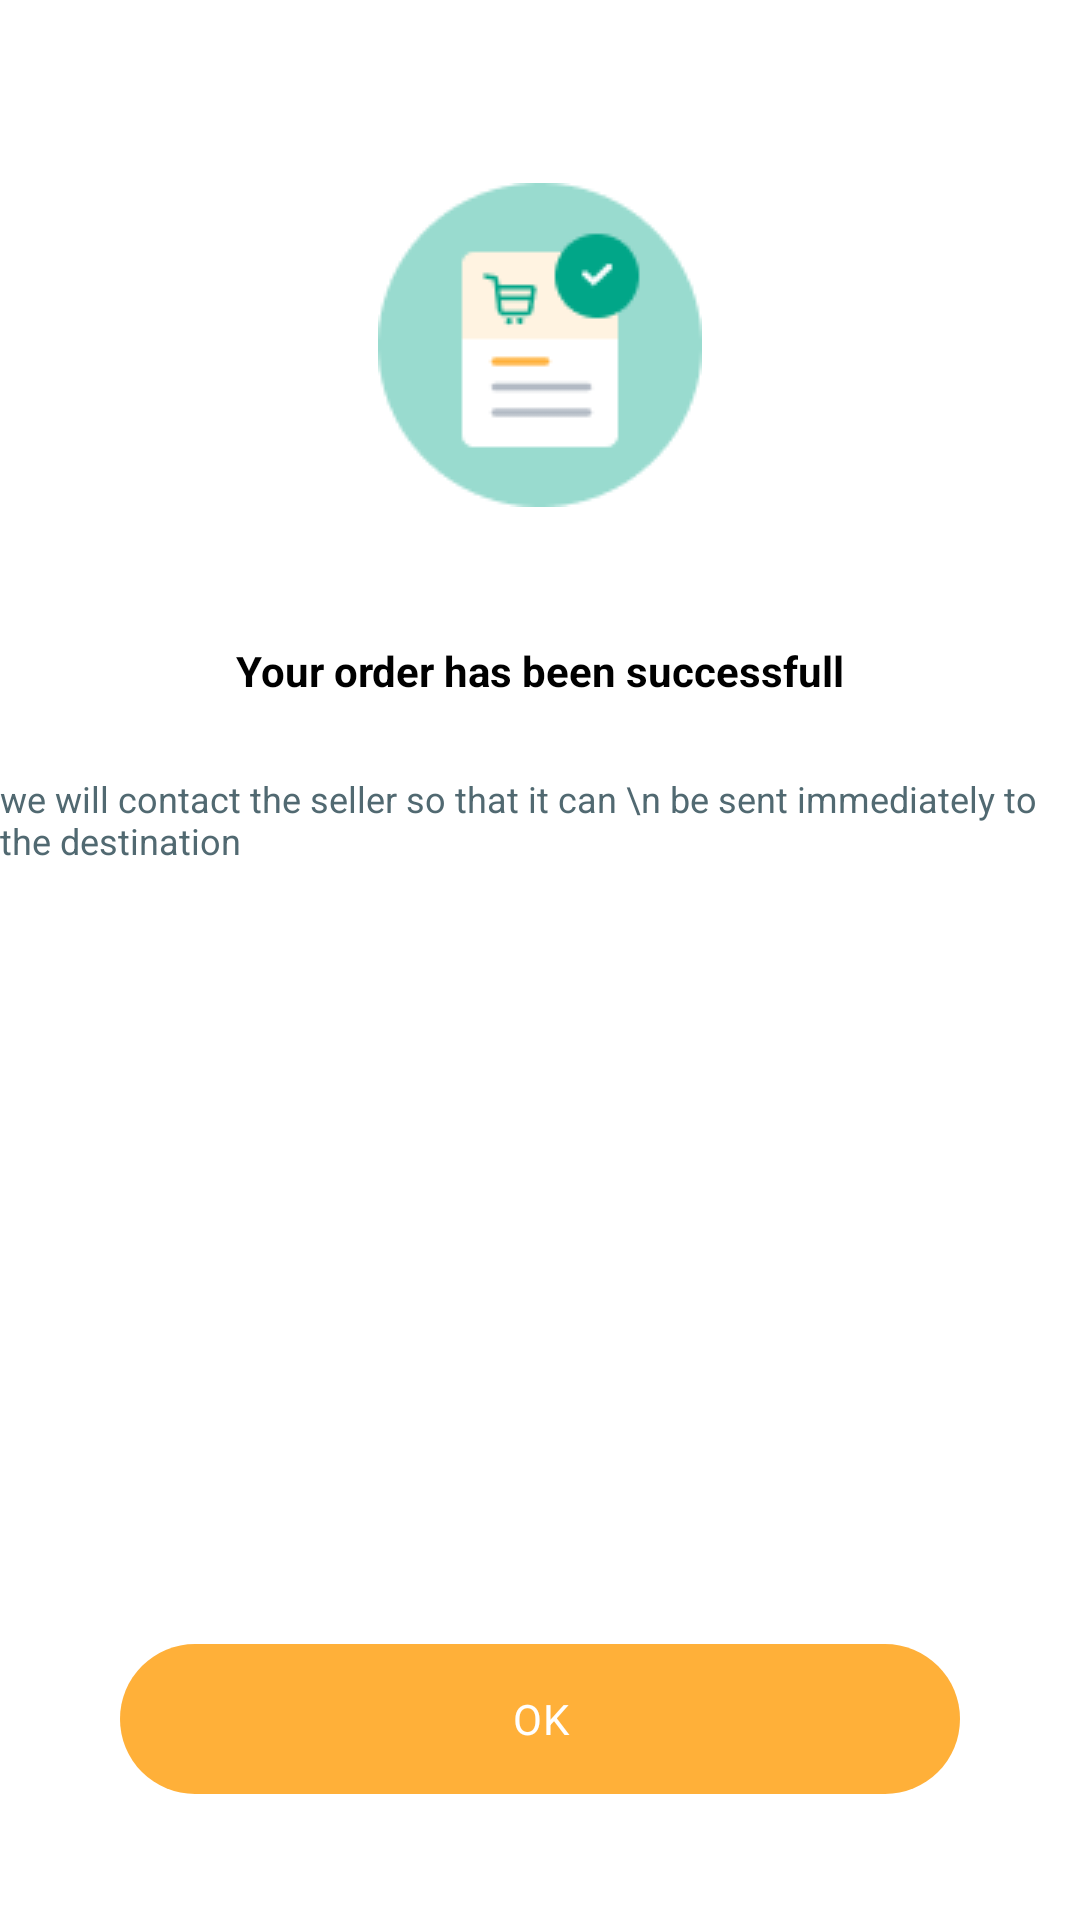

Named icons in this screenshot (1080×1920) and their bounding boxes, (x1, y1, x2, y2):
success order: (378, 183, 702, 507)
